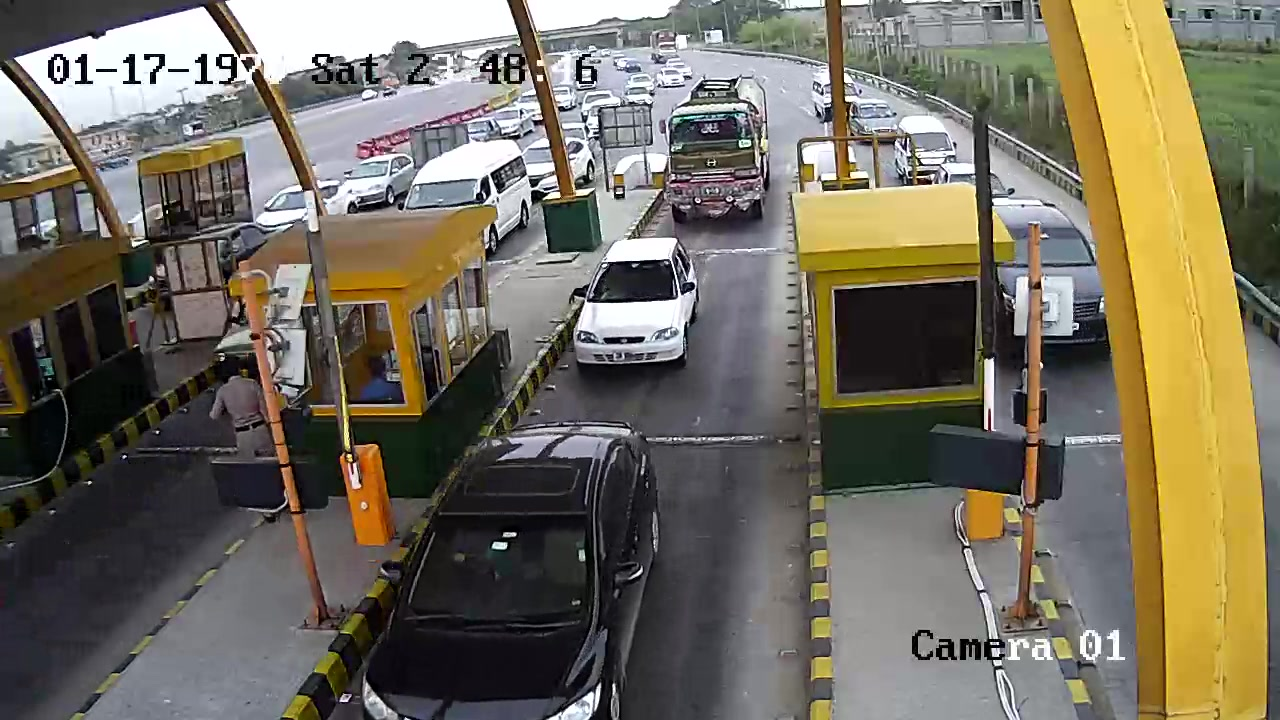F1: (564, 230, 716, 378)
